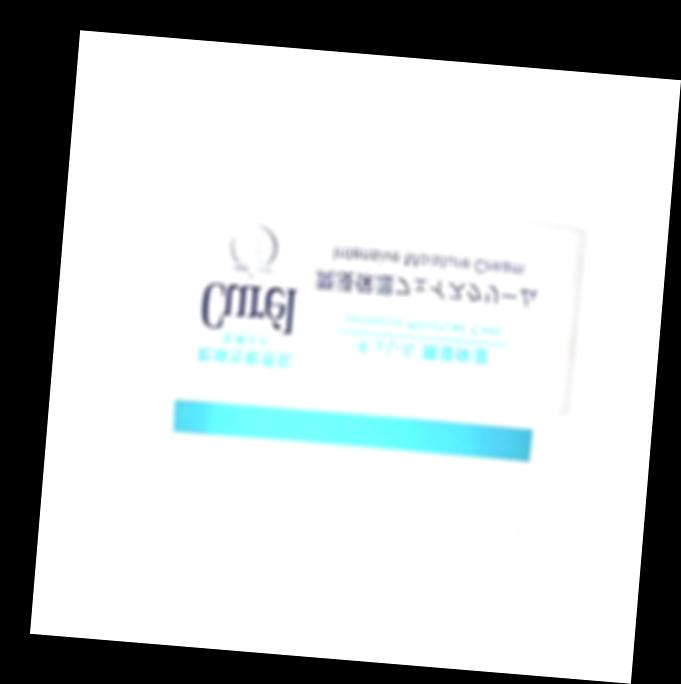cosmetic: (120, 191, 588, 548)
